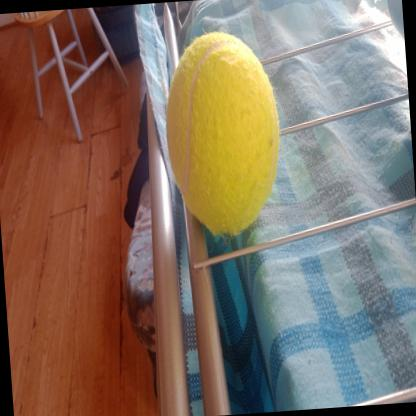Tennis: (157, 22, 289, 243)
